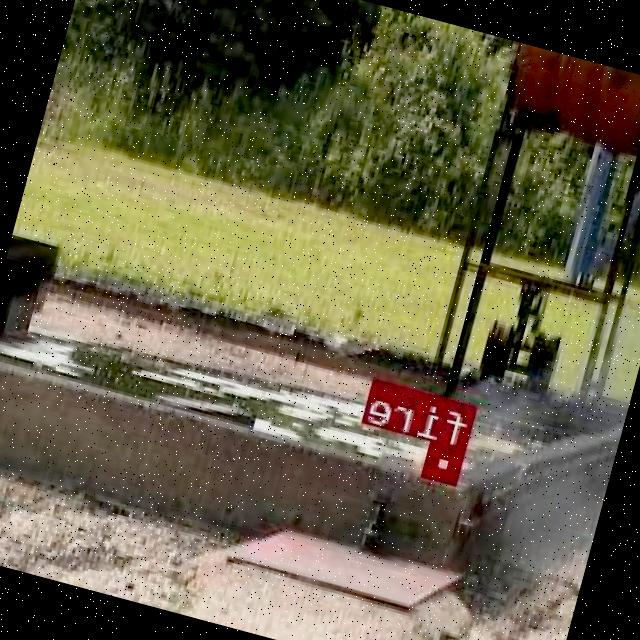fire: (424, 440, 468, 484)
